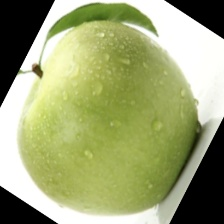apple: (24, 25, 215, 194)
